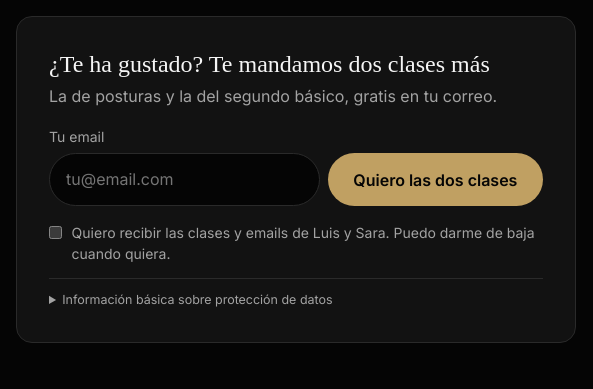
FreeClassesForm › traduce el código de error a un mensaje
In the field labelled "Tu email": (184, 180) x1=49 y1=153 x2=320 y2=206, type "ana@example.com"
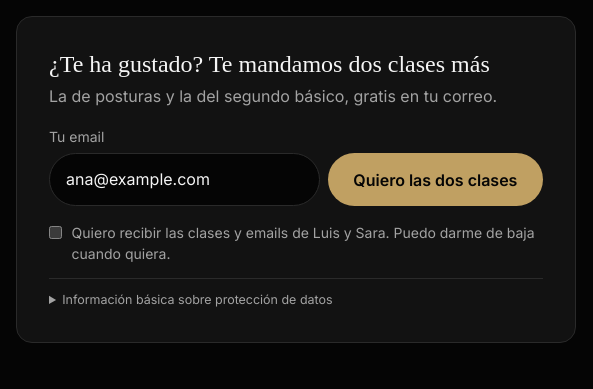
Click the checkbox: (56, 232) x1=49 y1=226 x2=62 y2=238
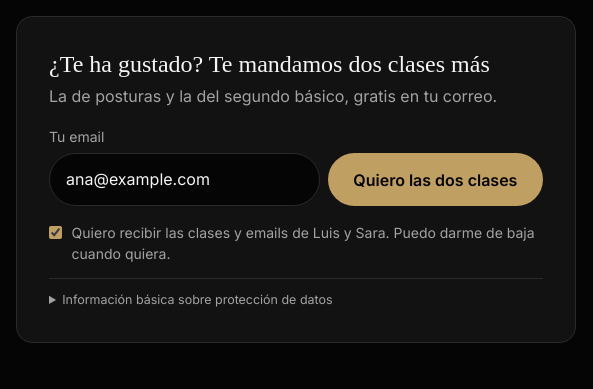
Click the button "Quiero las dos clases": (435, 180) x1=328 y1=153 x2=543 y2=206
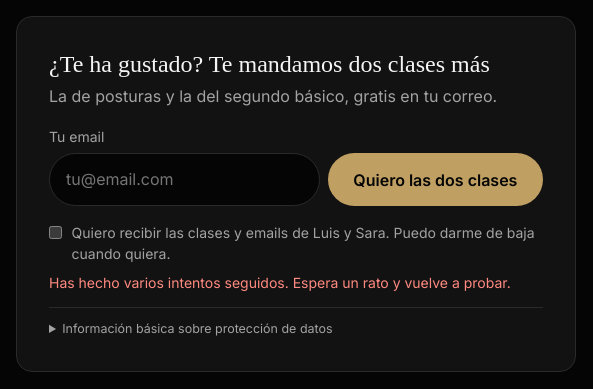
Expected: the message reads "Has hecho varios intentos seguidos. Espera un rato y vuelve a probar.", x1=49 y1=274 x2=511 y2=291
